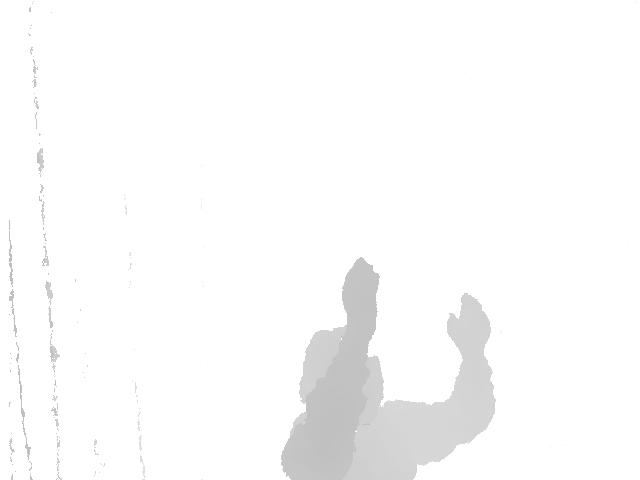hand: (443, 294, 496, 365), (338, 254, 384, 329)
head: (296, 328, 388, 411)
person: (280, 254, 497, 480)
